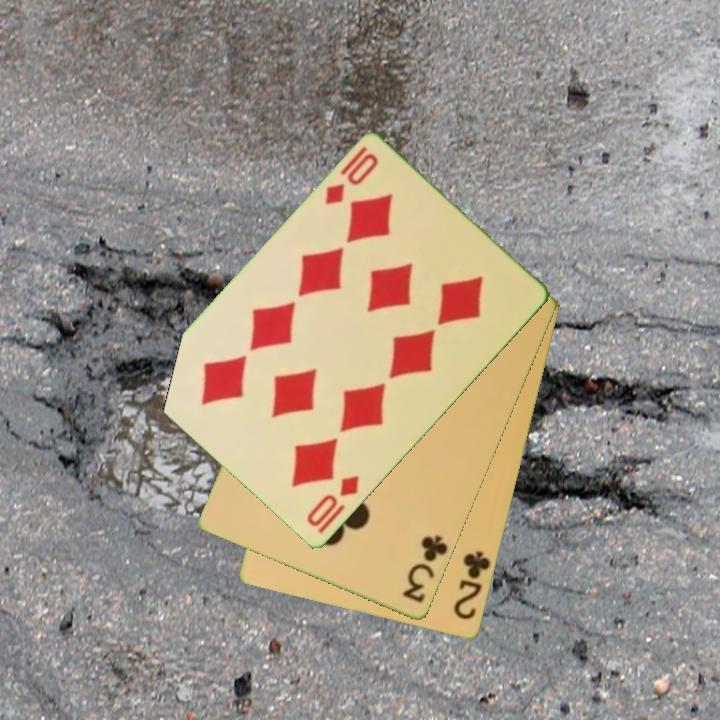10d: (303, 472, 362, 538), (321, 150, 381, 209)
2c: (450, 547, 494, 623)
3c: (399, 532, 451, 606)
